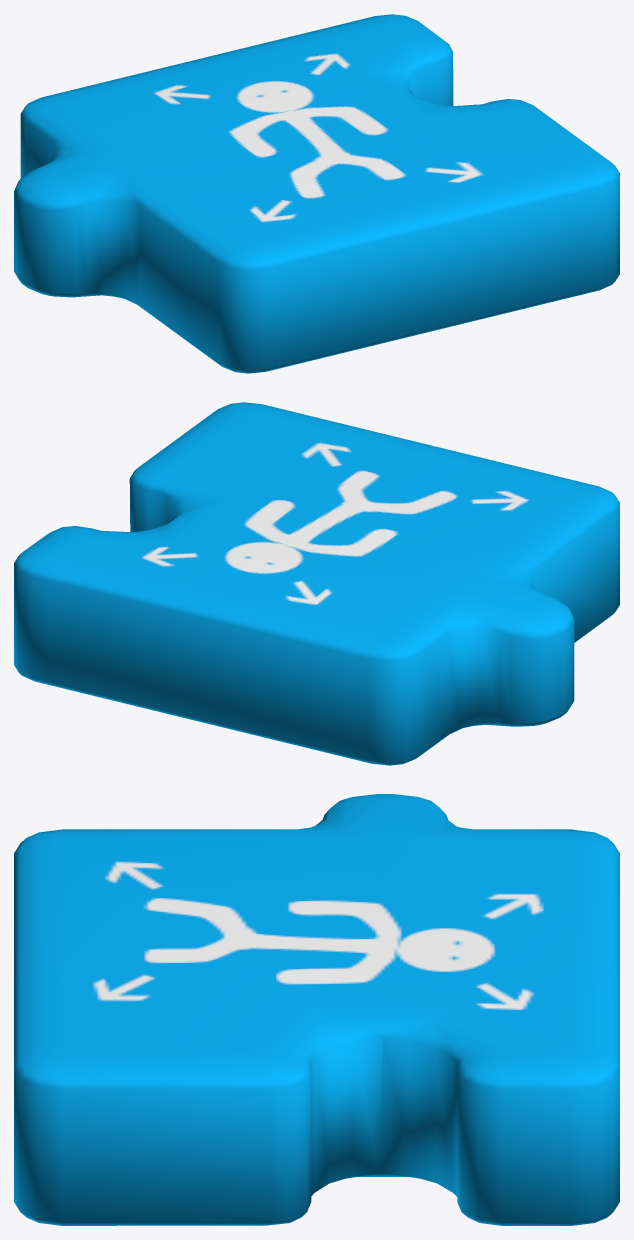
File: bloqueAgrandar.fbx
The picture shows the model from 3 angles, top to bottom: view 1: azimuth 30°, elevation 25°; view 2: azimuth 150°, elevation 25°; view 3: azimuth 270°, elevation 25°; orthographic projection. The views are drawn at different scales.
Parts seen in each view (by area): view 1: BloqueAgrandar; view 2: BloqueAgrandar; view 3: BloqueAgrandar.
Part boxes in pixels (bbox=[...]): BloqueAgrandar: bbox=[14, 14, 619, 373]; BloqueAgrandar: bbox=[14, 402, 619, 765]; BloqueAgrandar: bbox=[14, 794, 619, 1225].
Bounding box in the file's own units: 238 × 59.47 × 200.
